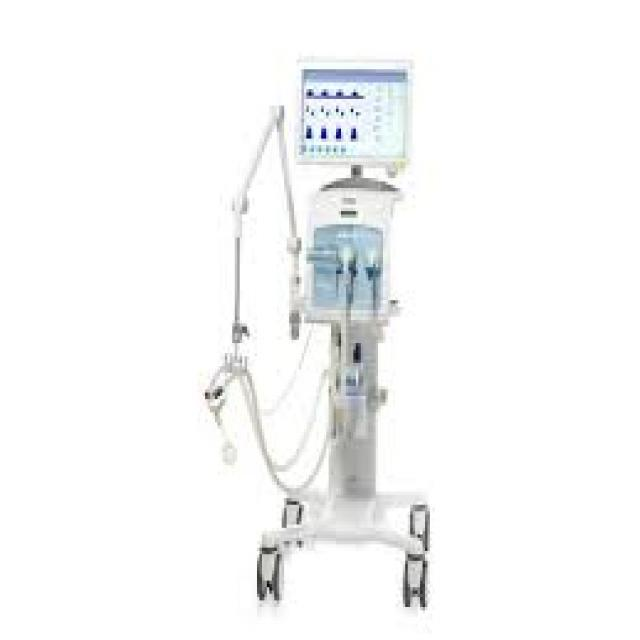ventilator: (230, 63, 476, 636)
